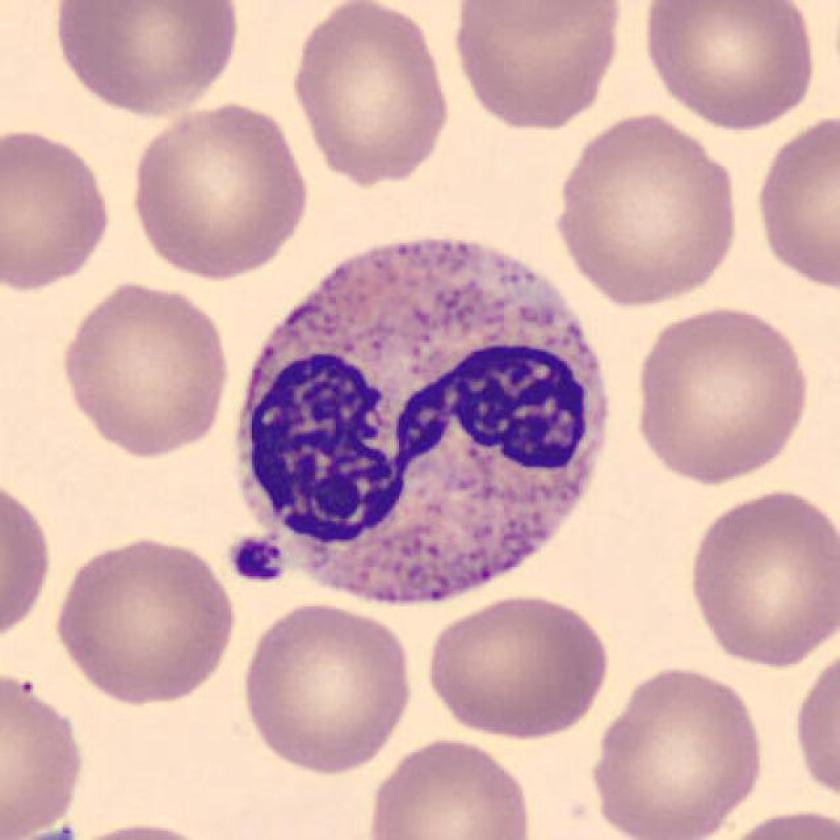neutrophil: (239, 241, 608, 602)
